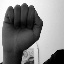a: (1, 2, 44, 53)
